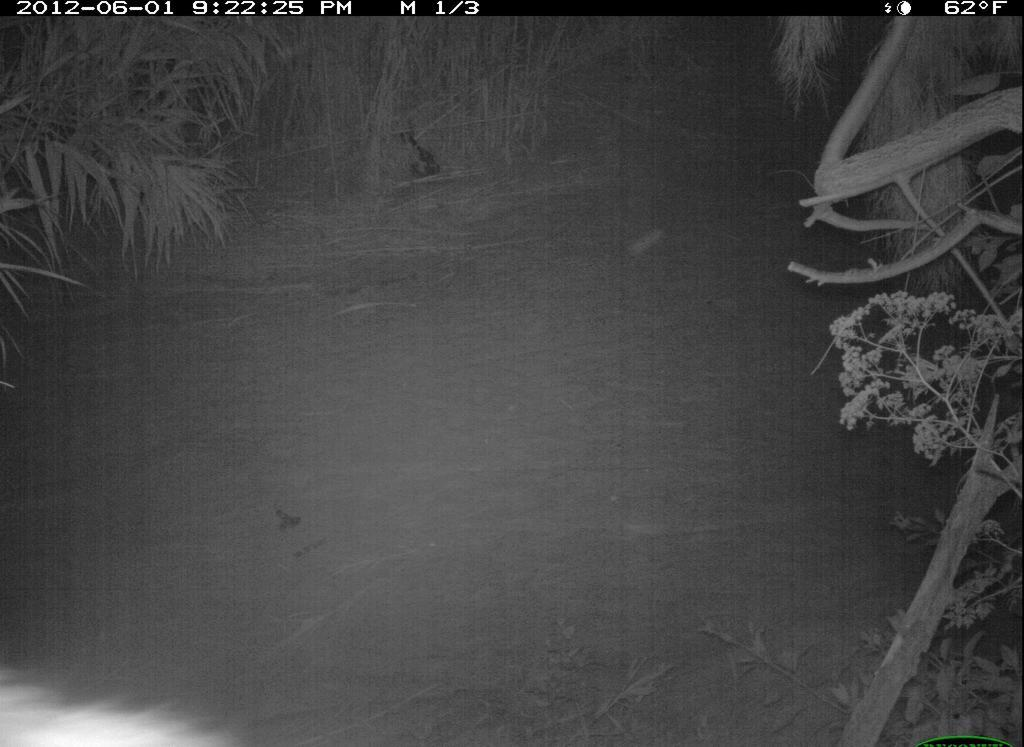raccoon: (2, 624, 264, 747)
